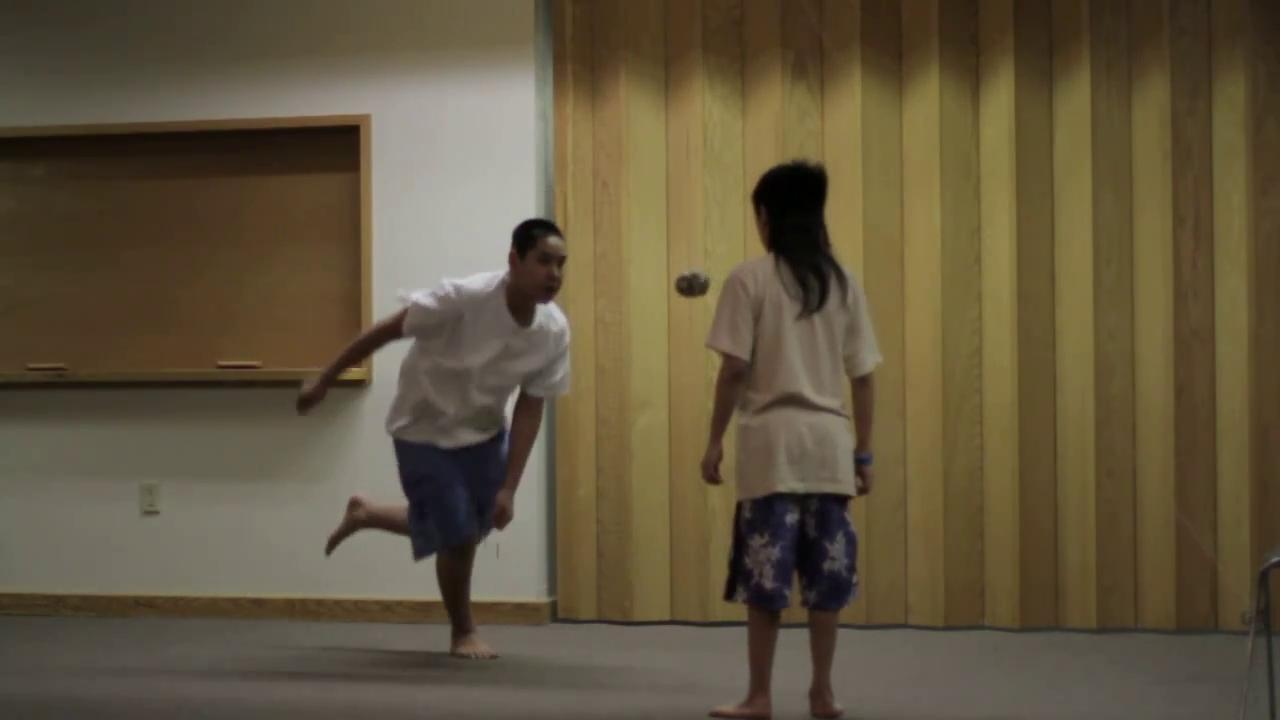victim: (288, 171, 576, 671), (690, 151, 880, 719)
